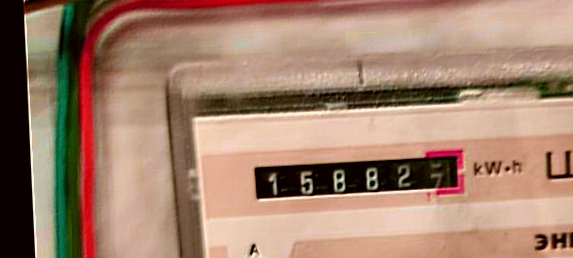1: (267, 171, 282, 197)
2: (397, 163, 413, 188)
5: (299, 169, 316, 196)
7: (430, 170, 445, 189)
8: (332, 168, 349, 195), (365, 166, 381, 191)
screen: (240, 141, 476, 215)
